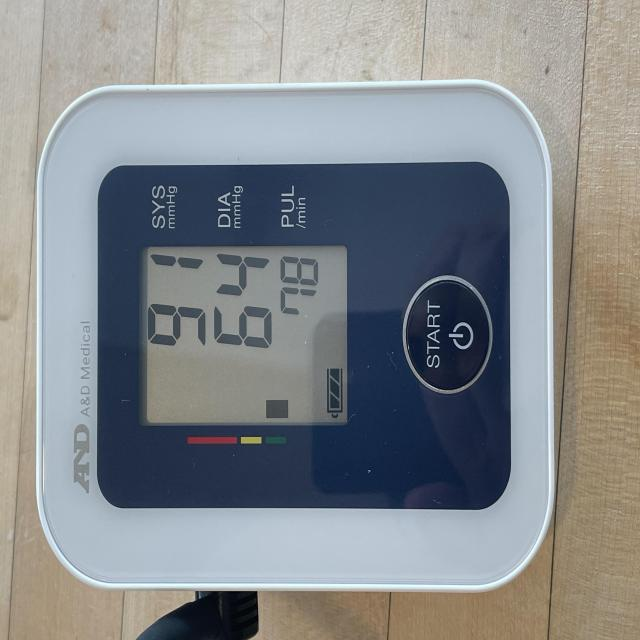bp: (31, 80, 558, 597)
